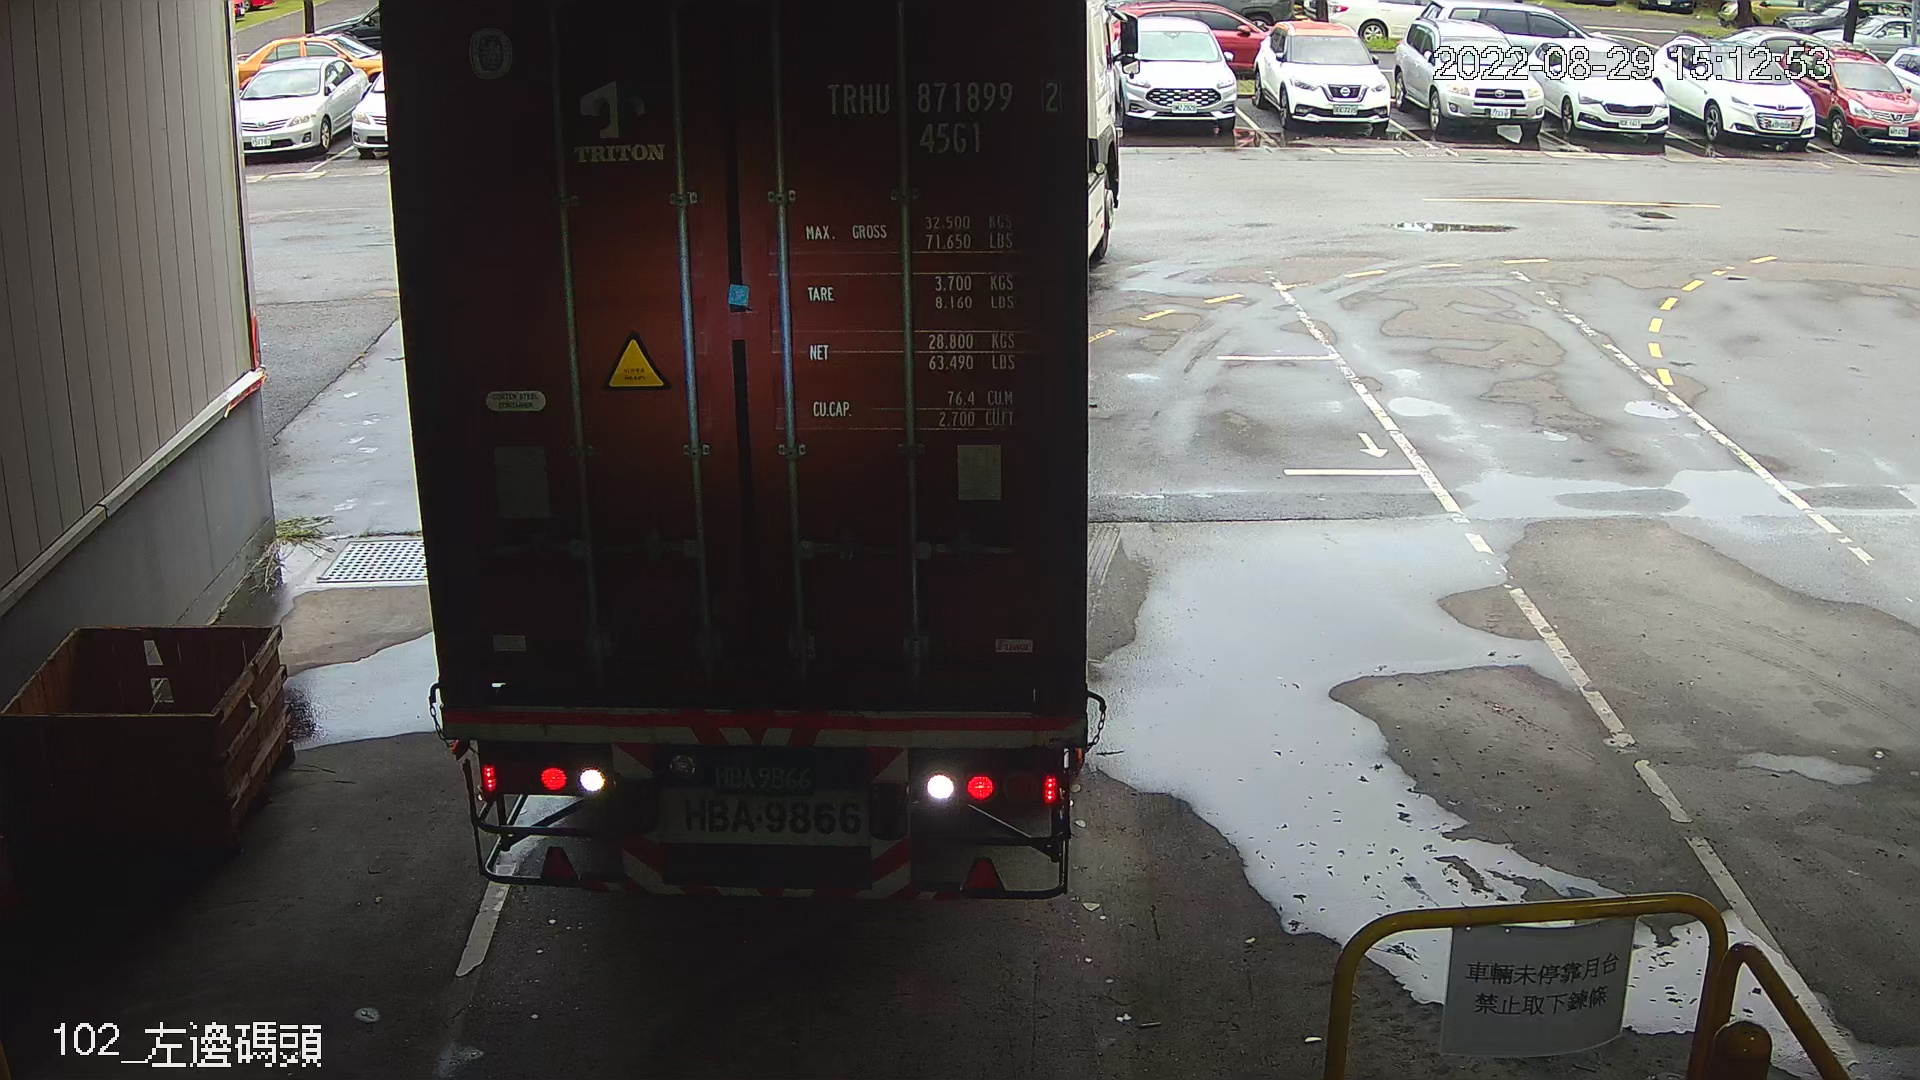container: (816, 69, 1073, 164)
